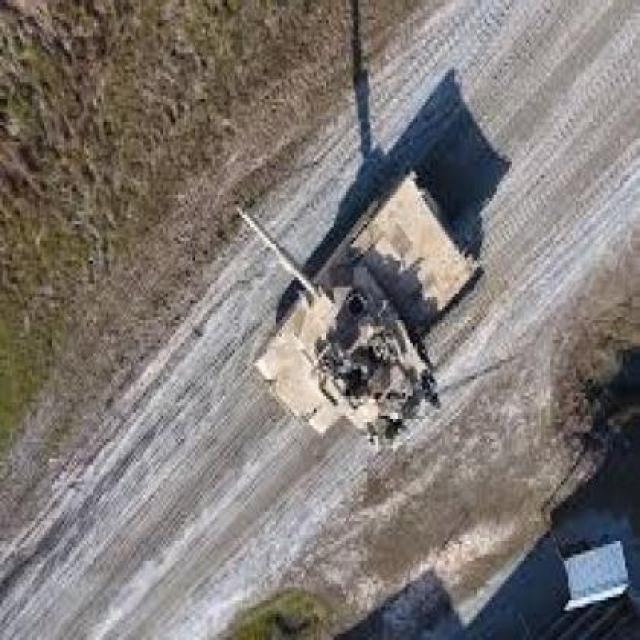tank: (232, 158, 489, 459)
